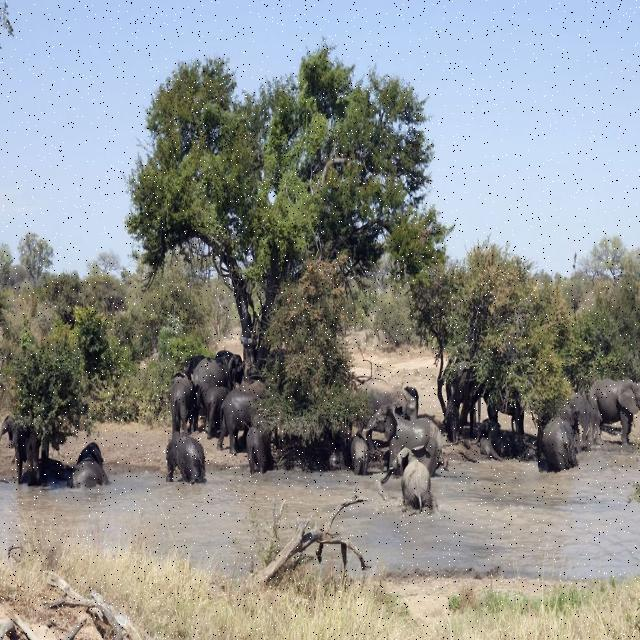elephant: (538, 398, 601, 475), (588, 370, 640, 445), (160, 432, 205, 482)
